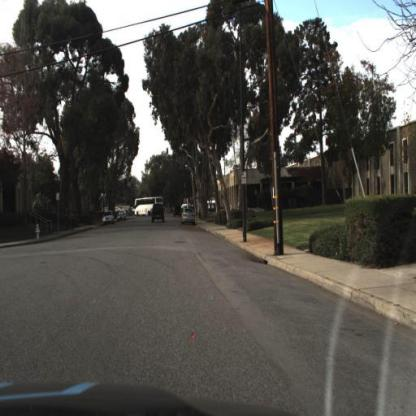car: (135, 197, 165, 220), (150, 204, 167, 227), (182, 209, 196, 224), (103, 211, 115, 227)
pedestrian: (71, 210, 76, 233), (66, 210, 70, 233)
truck: (134, 192, 165, 220)
